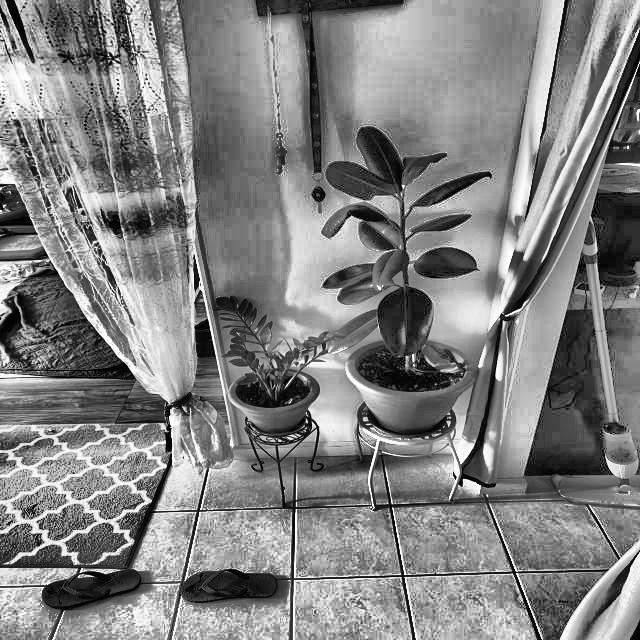plants: (309, 134, 472, 378), (205, 298, 334, 424)
